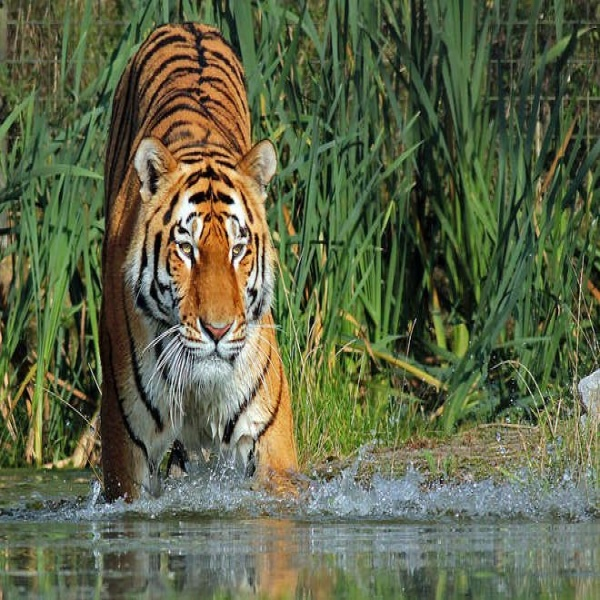Tiger: (96, 19, 302, 510)
